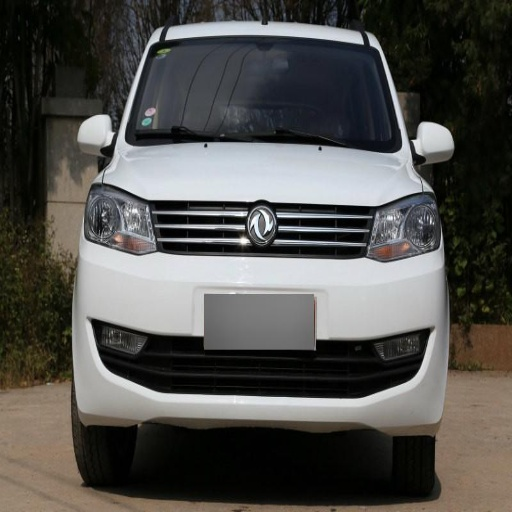front_bumper: (83, 204, 446, 429)
front_right_light: (86, 186, 157, 254)
hood: (107, 144, 418, 253)
left_mirror: (414, 121, 455, 166)
